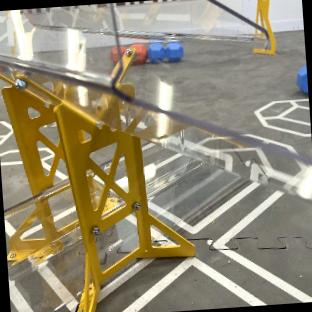V5_BLUE: (148, 42, 182, 61), (297, 65, 307, 93)
V5_RED: (110, 42, 146, 63)
